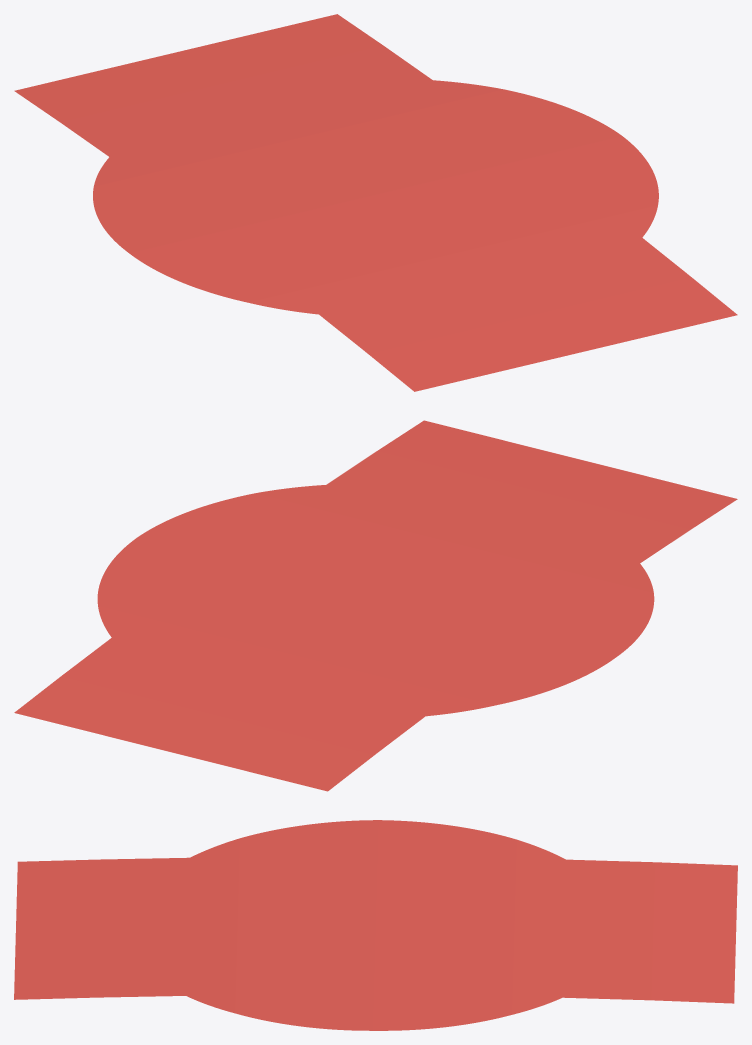
File: dotonbori-bridge-deck-study.glb
3 renders of one model, top to bottom at view 1: azimuth 30°, elevation 25°; view 2: azimuth 150°, elevation 25°; view 3: azimuth 270°, elevation 25°, orthographic. The views are drawn at different scales.
Parts seen in each view (by area): view 1: ebisubashi-deck-dimension-study; view 2: ebisubashi-deck-dimension-study; view 3: ebisubashi-deck-dimension-study.
Part boxes in pixels (x1,y1,x2,y2): ebisubashi-deck-dimension-study: [14, 14, 737, 391]; ebisubashi-deck-dimension-study: [14, 420, 737, 791]; ebisubashi-deck-dimension-study: [14, 820, 737, 1030].
Size of the model in its own units: 18 by 0.289 by 26.14.
